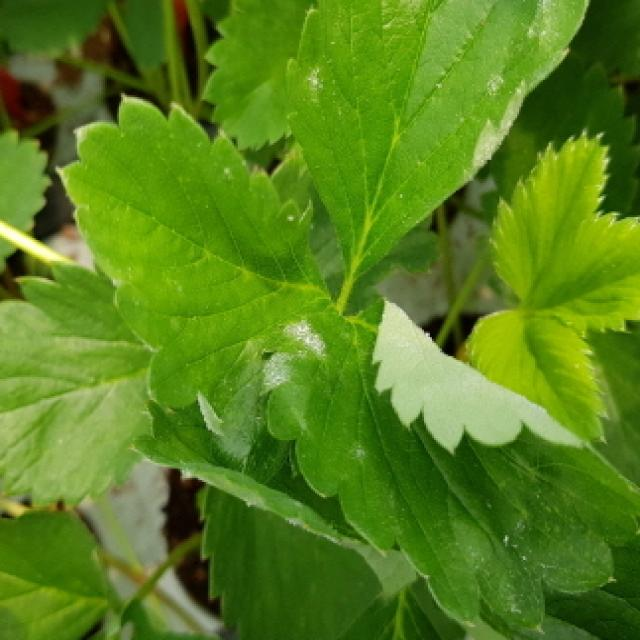Powdery Mildew Leaf: (263, 296, 640, 629), (51, 93, 359, 460), (287, 0, 590, 283), (467, 536, 640, 640)
